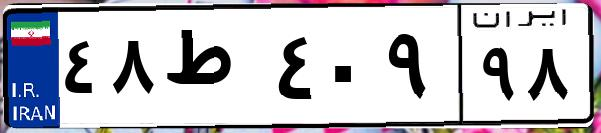0: (330, 28, 385, 110)
4: (270, 28, 330, 110), (57, 26, 110, 100)
8: (525, 38, 570, 115), (110, 28, 158, 98)
9: (385, 28, 445, 110), (475, 38, 525, 113)
ط: (158, 20, 270, 120)
